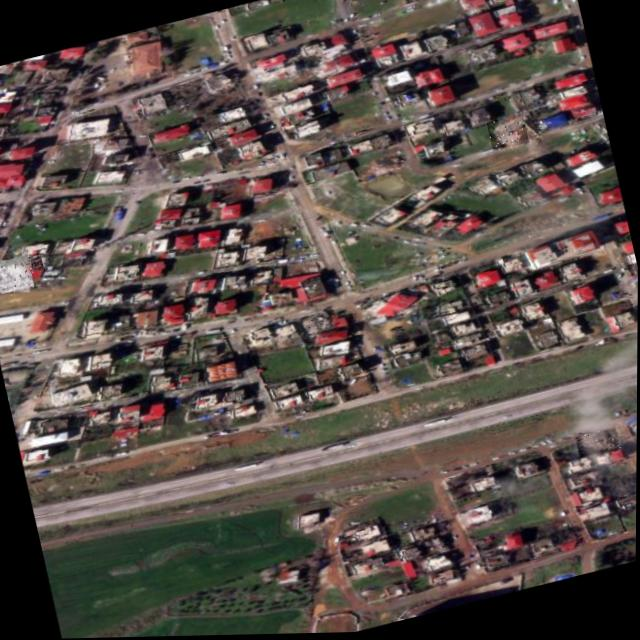Rubble: (0, 250, 36, 299), (485, 115, 528, 154), (574, 428, 620, 462), (298, 309, 339, 340), (0, 252, 43, 280)
